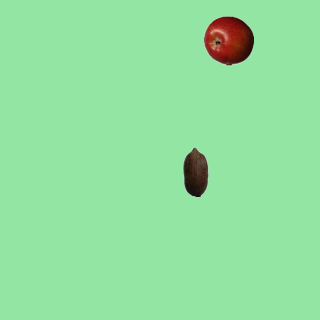Apple Braeburn: (203, 15, 253, 65)
Nut Pecan: (170, 146, 220, 196)
